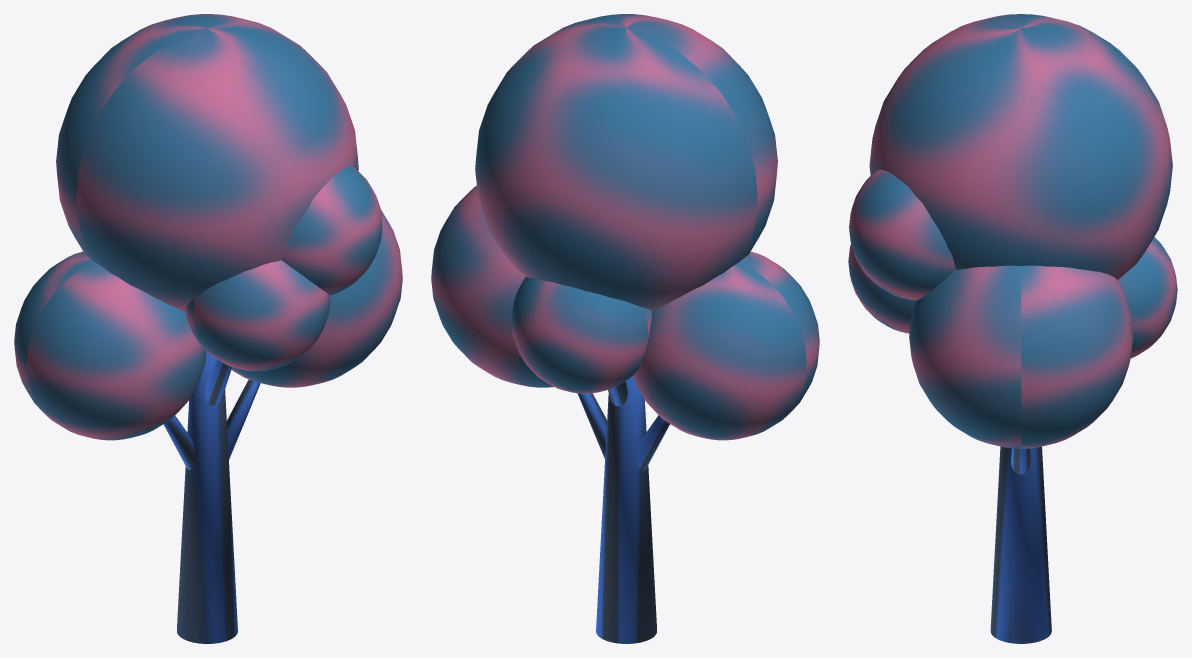
Rendered from tree.gltf.
The picture shows the model from 3 angles, left to right: view 1: azimuth 30°, elevation 25°; view 2: azimuth 150°, elevation 25°; view 3: azimuth 270°, elevation 25°; orthographic projection.
Parts seen in each view (by area): view 1: foliage, trunk; view 2: foliage, trunk; view 3: foliage, trunk.
Boxes of the visible parts, x1,y1,x2,y2 form: foliage: [14, 14, 402, 440]; trunk: [163, 351, 260, 643]; foliage: [431, 14, 819, 440]; trunk: [577, 376, 669, 643]; foliage: [848, 14, 1177, 448]; trunk: [990, 446, 1051, 643].
Size of the model in its own units: 1.73 by 2.75 by 1.36.
2 materials, 2 textured.
